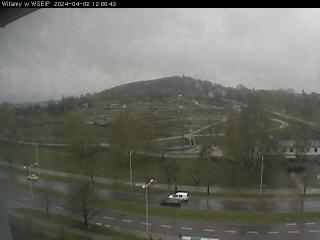car: (168, 191, 189, 203), (161, 198, 180, 208), (27, 173, 38, 181)
